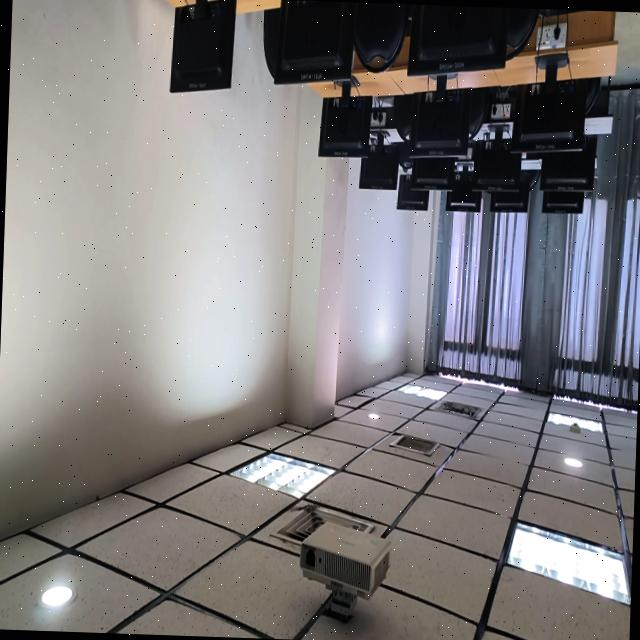Chair: (353, 1, 409, 72), (505, 6, 538, 59), (262, 8, 278, 76), (468, 87, 487, 137), (392, 94, 412, 140), (583, 77, 599, 114), (398, 140, 411, 171), (527, 170, 538, 191)
Light: (505, 521, 629, 603), (231, 452, 333, 496), (546, 410, 600, 430), (398, 383, 446, 399), (40, 585, 71, 606), (563, 456, 581, 466), (367, 411, 378, 419)
Monitor: (407, 3, 507, 75), (510, 55, 585, 151), (271, 0, 355, 83), (168, 0, 234, 91), (408, 87, 470, 157), (318, 80, 371, 155), (470, 124, 520, 189), (539, 135, 595, 190), (358, 131, 397, 188), (489, 170, 528, 211), (409, 157, 454, 189), (445, 171, 479, 210), (395, 174, 428, 209), (541, 190, 583, 212)
Projector: (298, 521, 390, 598)
